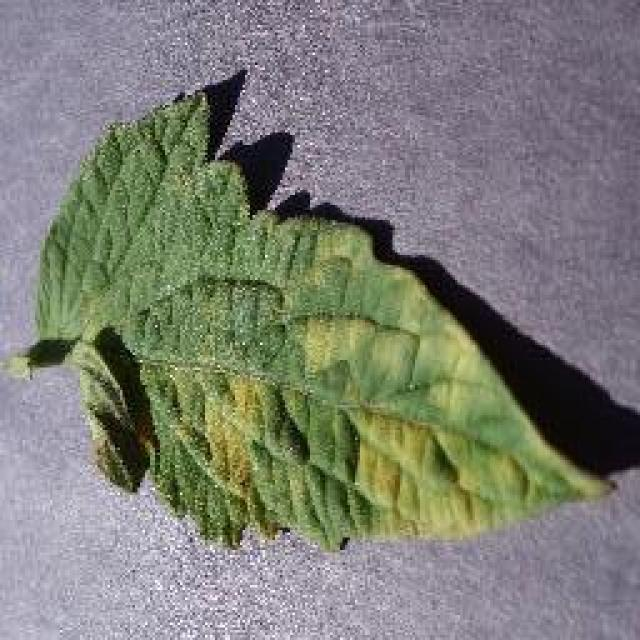Tomato mold leaf: (39, 86, 619, 549)
